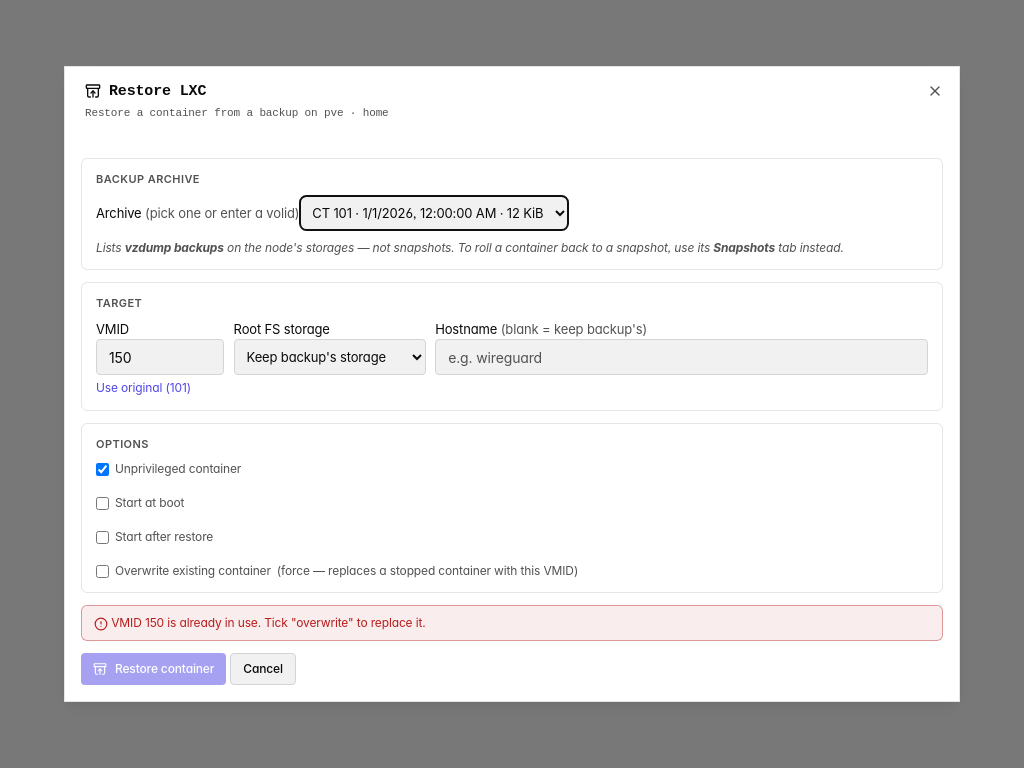
Test: LxcRestoreModal — V8.1 › refuses an overwrite over a running target
Expected: the number field showing "150" is shown, [96,339,224,375]
Click the checkbox labelled "Overwrite existing container".
click(102, 571)  # box [96,564,109,578]
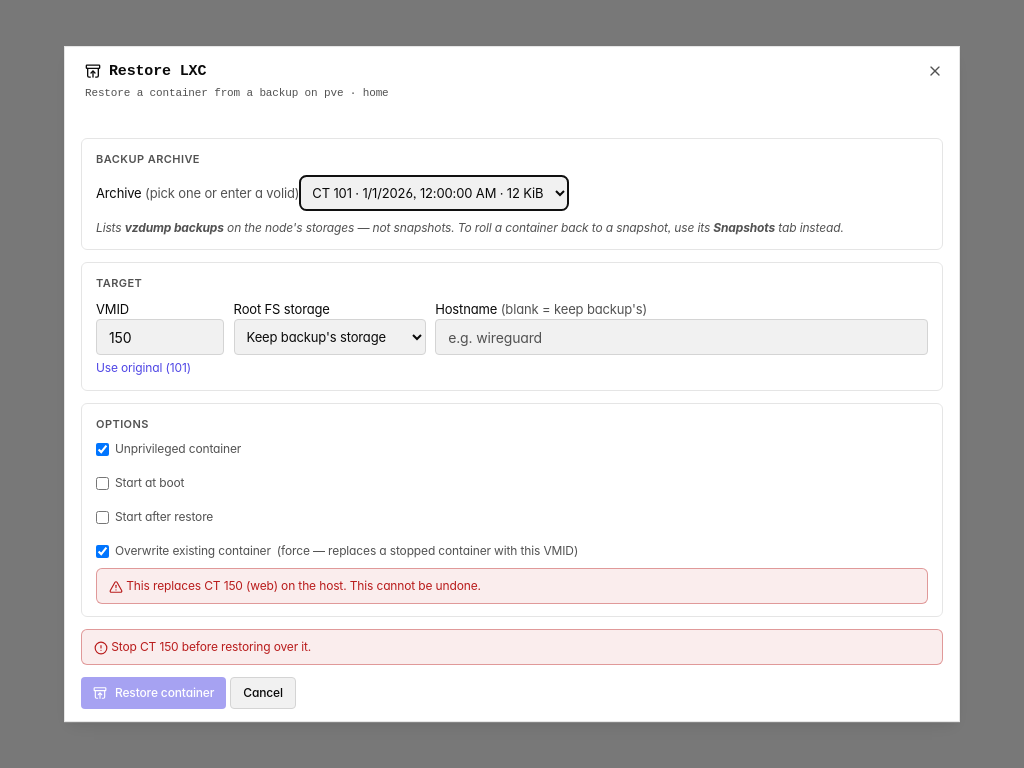
Expected: the button "Restore container" is disabled, [81,677,226,709]
Now the text "Stop CT 150 before restoring over it." is shown, box [81,629,943,665]
